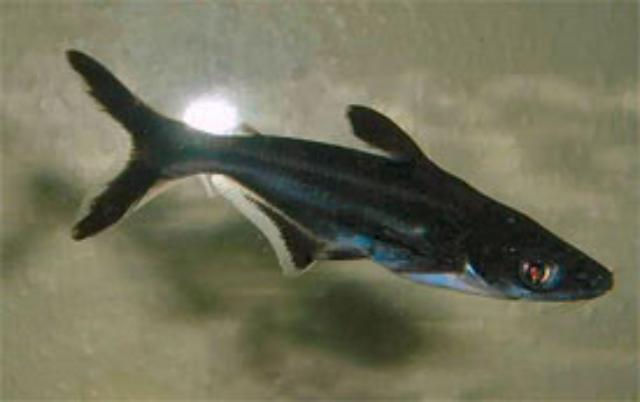Sirip Anal: (208, 160, 324, 286)
Sirip Dada: (403, 228, 473, 288)
Sirip Ekor: (60, 37, 158, 255)
Sirip Perut: (316, 230, 382, 278)
Sirip Punggung: (348, 96, 424, 175)
